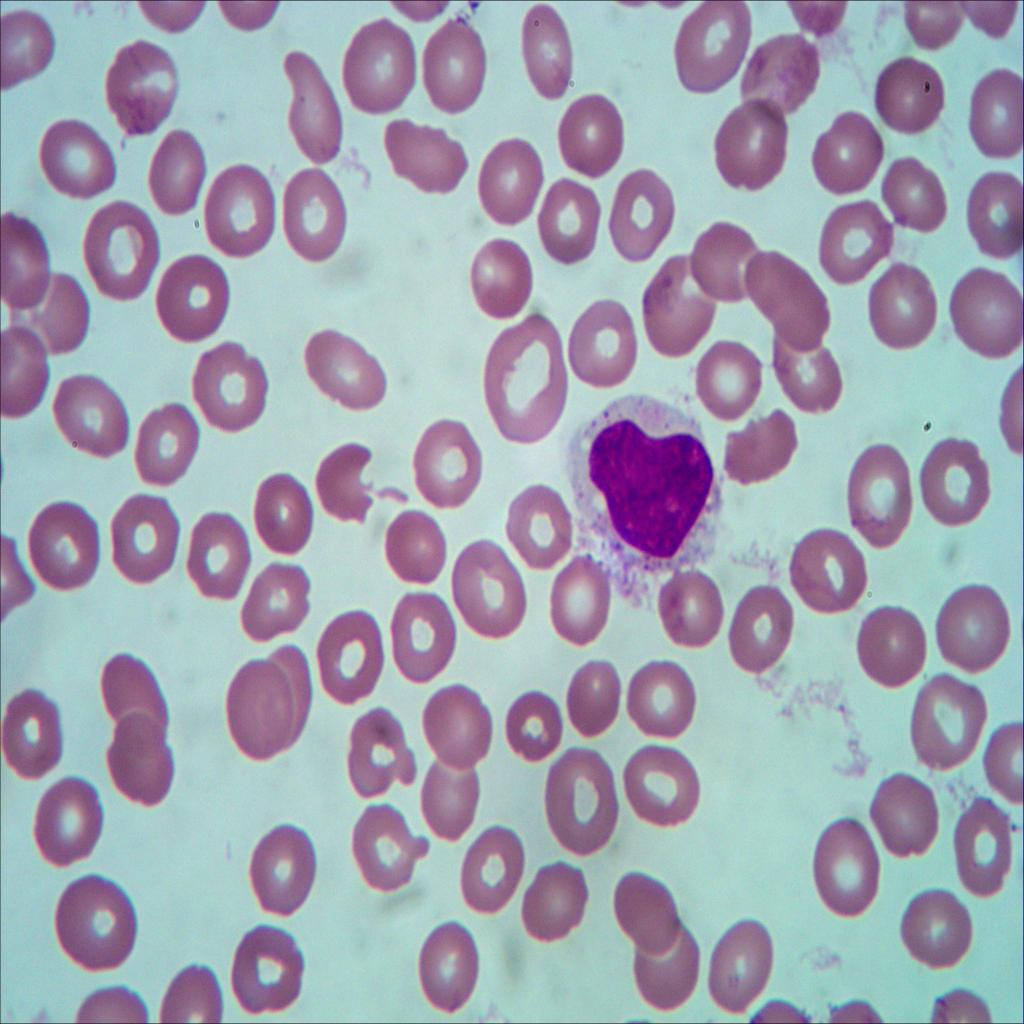Eritrosit: (476, 310, 570, 448), (857, 241, 946, 365), (376, 98, 474, 202), (52, 872, 144, 978), (442, 534, 531, 642), (177, 338, 275, 436), (75, 189, 161, 300), (712, 396, 809, 494), (330, 10, 418, 117), (341, 785, 430, 888), (745, 252, 838, 350), (846, 594, 930, 702), (931, 583, 1022, 682), (102, 708, 183, 818), (94, 633, 172, 747), (412, 668, 500, 769), (270, 54, 344, 174), (402, 914, 484, 1022), (700, 926, 790, 1024), (415, 6, 491, 120), (675, 0, 759, 103), (242, 463, 322, 571), (409, 418, 497, 516), (839, 438, 912, 556), (18, 494, 104, 592), (14, 270, 104, 363), (860, 761, 946, 858), (305, 335, 402, 420), (786, 518, 868, 618), (623, 644, 704, 744), (104, 492, 184, 593), (913, 436, 1000, 528), (724, 578, 804, 678), (39, 119, 128, 208), (516, 856, 596, 955), (948, 258, 1024, 362), (233, 549, 316, 644), (314, 601, 391, 703), (813, 194, 900, 284), (868, 46, 950, 141), (547, 745, 619, 853), (232, 915, 306, 1020), (631, 918, 704, 1024), (26, 778, 111, 868), (894, 882, 977, 974), (242, 818, 323, 912), (144, 260, 238, 341), (746, 29, 825, 125), (646, 250, 716, 358), (105, 41, 178, 144), (472, 130, 547, 230), (126, 395, 200, 495), (255, 642, 322, 752), (913, 678, 988, 776), (772, 314, 842, 419), (176, 500, 254, 594), (812, 823, 883, 926), (47, 371, 132, 457), (708, 104, 784, 200), (564, 298, 643, 390), (203, 157, 277, 255), (684, 324, 766, 412), (525, 174, 603, 266), (951, 794, 1018, 900), (316, 436, 385, 538), (808, 105, 886, 195), (380, 593, 460, 680), (603, 166, 674, 264), (625, 740, 704, 828), (873, 144, 945, 240), (513, 0, 579, 103), (344, 710, 423, 796), (612, 861, 681, 958), (0, 684, 70, 778), (557, 92, 629, 182), (464, 818, 526, 922), (546, 554, 616, 646), (226, 666, 288, 769), (279, 165, 347, 258), (505, 480, 575, 570), (660, 563, 730, 652), (0, 214, 57, 323), (962, 54, 1024, 154), (376, 508, 446, 596), (495, 682, 568, 766), (687, 219, 757, 306), (467, 228, 535, 317), (423, 748, 481, 848), (146, 134, 209, 224), (960, 174, 1024, 256), (561, 658, 623, 742), (0, 324, 45, 424), (166, 959, 223, 1024)
Monosit: (562, 393, 730, 593)
